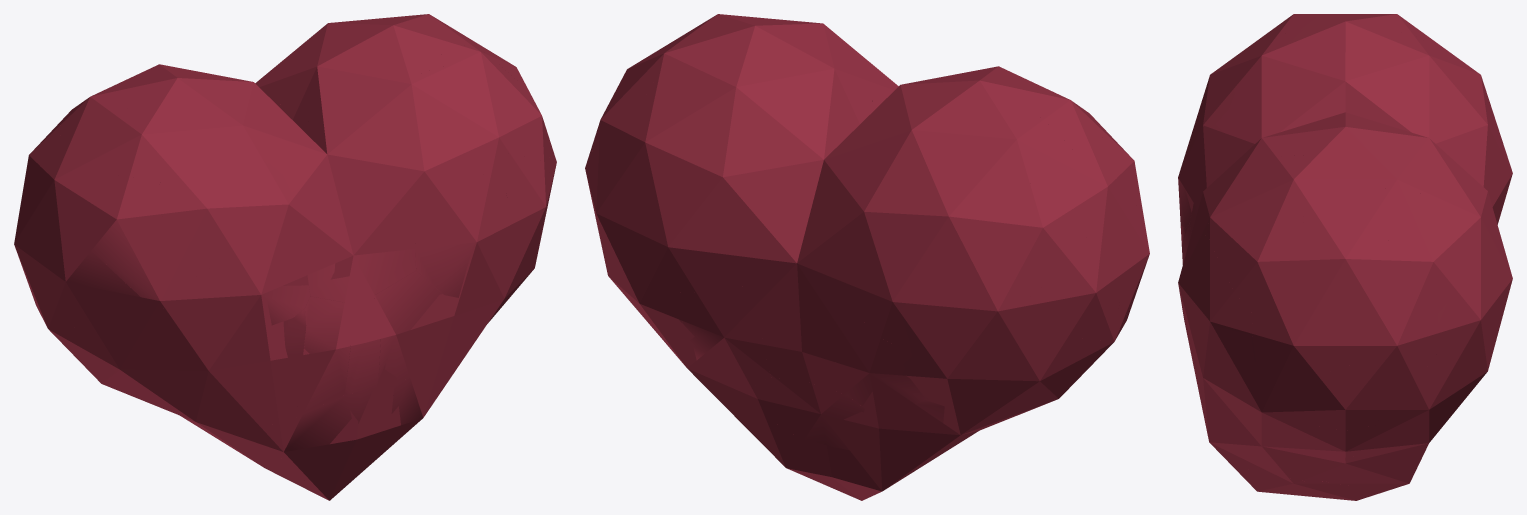
File: heart.glb
The picture shows the model from 3 angles, left to right: view 1: azimuth 30°, elevation 25°; view 2: azimuth 150°, elevation 25°; view 3: azimuth 270°, elevation 25°; orthographic projection. The views are drawn at different scales.
Visible parts, largest first — view 1: origin, Heart_Full_cell.048, Heart_Full_cell.033, Heart_Full_cell.027, Heart_Full_cell.008, Heart_Full_cell.004, Heart_Full_cell.007, Heart_Full_cell.014, Heart_Full_cell.053, Heart_Full_cell.025, Heart_Full_cell.052, Heart_Full_cell.003 (+16 smaller); view 2: origin, Heart_Full_cell.047, Heart_Full_cell.017, Heart_Full_cell.032, Heart_Full_cell.031, Heart_Full_cell.009, Heart_Full_cell.058, Heart_Full_cell.040, Heart_Full_cell.039, Heart_Full_cell.041, Heart_Full_cell, Heart_Full_cell.054 (+15 smaller); view 3: origin, Heart_Full_cell.014, Heart_Full_cell.029, Heart_Full_cell.035, Heart_Full_cell.056, Heart_Full_cell.055, Heart_Full_cell.037, Heart_Full_cell.036, Heart_Full_cell.028, Heart_Full_cell.006, Heart_Full_cell.042, Heart_Full_cell.049 (+17 smaller).
Boxes of the visible parts, x1=… form: origin: x1=14, y1=16, x2=552, y2=500; Heart_Full_cell.048: x1=55, y1=171, x2=171, y2=307; Heart_Full_cell.033: x1=80, y1=98, x2=196, y2=183; Heart_Full_cell.027: x1=306, y1=197, x2=415, y2=302; Heart_Full_cell.008: x1=40, y1=216, x2=152, y2=329; Heart_Full_cell.004: x1=159, y1=156, x2=248, y2=291; Heart_Full_cell.007: x1=415, y1=157, x2=511, y2=297; Heart_Full_cell.014: x1=440, y1=42, x2=549, y2=165; Heart_Full_cell.053: x1=163, y1=244, x2=309, y2=327; Heart_Full_cell.025: x1=374, y1=271, x2=441, y2=386; Heart_Full_cell.052: x1=297, y1=296, x2=350, y2=415; Heart_Full_cell.003: x1=49, y1=307, x2=179, y2=390; origin: x1=591, y1=17, x2=1149, y2=500; Heart_Full_cell.047: x1=997, y1=179, x2=1110, y2=309; Heart_Full_cell.017: x1=960, y1=108, x2=1088, y2=189; Heart_Full_cell.032: x1=1019, y1=210, x2=1122, y2=341; Heart_Full_cell.031: x1=682, y1=281, x2=770, y2=388; Heart_Full_cell.009: x1=748, y1=377, x2=864, y2=452; Heart_Full_cell.058: x1=647, y1=217, x2=733, y2=293; Heart_Full_cell.040: x1=834, y1=311, x2=925, y2=405; Heart_Full_cell.039: x1=761, y1=303, x2=847, y2=395; Heart_Full_cell.041: x1=1006, y1=324, x2=1113, y2=401; Heart_Full_cell: x1=693, y1=78, x2=767, y2=221; Heart_Full_cell.054: x1=847, y1=264, x2=925, y2=346; origin: x1=1178, y1=14, x2=1507, y2=500; Heart_Full_cell.014: x1=1207, y1=155, x2=1313, y2=313; Heart_Full_cell.029: x1=1301, y1=154, x2=1389, y2=316; Heart_Full_cell.035: x1=1379, y1=161, x2=1457, y2=313; Heart_Full_cell.056: x1=1252, y1=292, x2=1345, y2=386; Heart_Full_cell.055: x1=1294, y1=363, x2=1395, y2=430; Heart_Full_cell.037: x1=1345, y1=294, x2=1438, y2=385; Heart_Full_cell.036: x1=1194, y1=232, x2=1255, y2=367; Heart_Full_cell.028: x1=1289, y1=425, x2=1401, y2=457; Heart_Full_cell.006: x1=1236, y1=361, x2=1315, y2=431; Heart_Full_cell.042: x1=1298, y1=47, x2=1386, y2=98; Heart_Full_cell.049: x1=1376, y1=30, x2=1452, y2=99.
Size of the model in its own units: 4.71 by 3.91 by 2.78.
